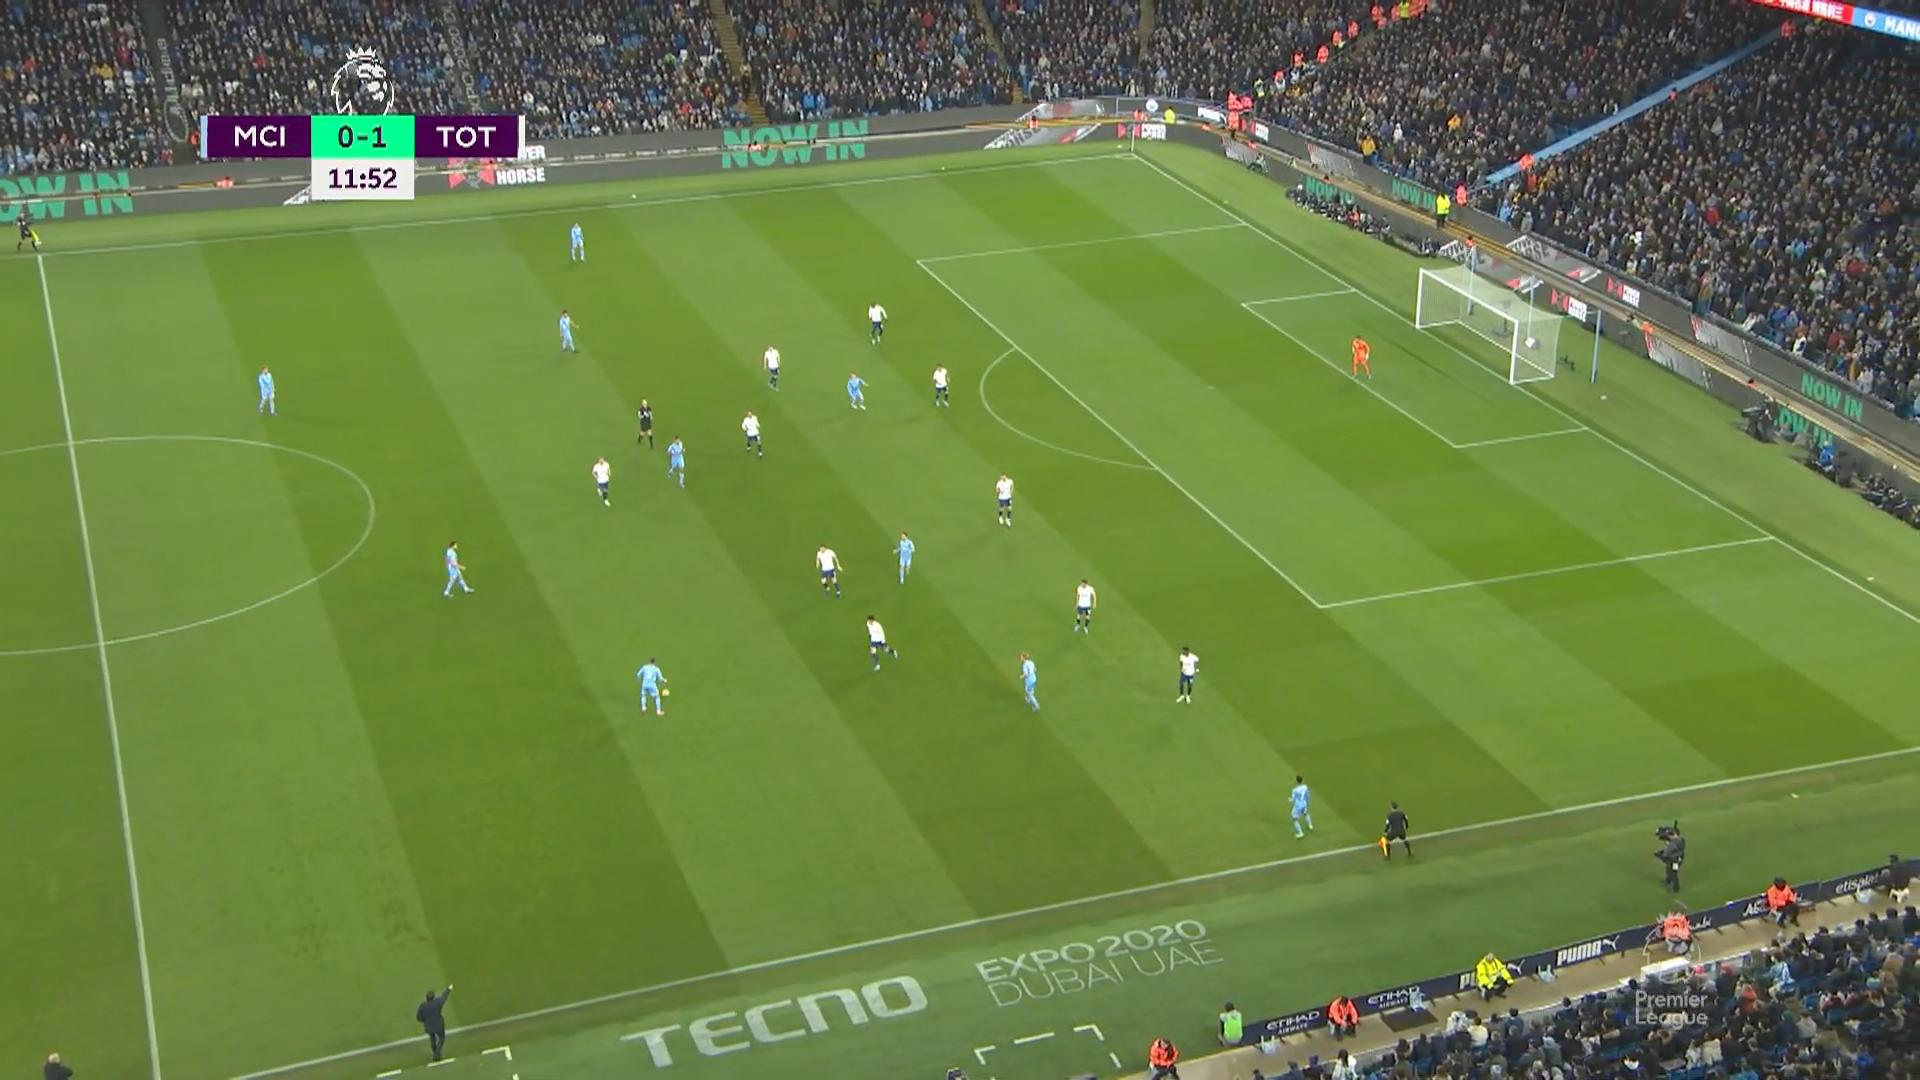goalkeeper: (1349, 334, 1371, 379)
player: (635, 656, 669, 716), (864, 614, 897, 671), (441, 540, 473, 598), (1287, 774, 1313, 838), (814, 544, 843, 598), (1174, 644, 1199, 704), (1017, 651, 1040, 711), (1072, 578, 1096, 634), (892, 530, 914, 585), (740, 410, 764, 458), (665, 435, 686, 489), (994, 472, 1014, 527), (591, 455, 611, 506), (256, 365, 276, 415), (557, 309, 578, 353), (866, 300, 887, 344), (845, 371, 868, 411), (761, 344, 781, 390), (931, 363, 950, 408), (568, 220, 585, 262)
referee: (1377, 800, 1412, 859), (635, 397, 654, 448)
staff: (414, 982, 454, 1061), (13, 210, 40, 255)
